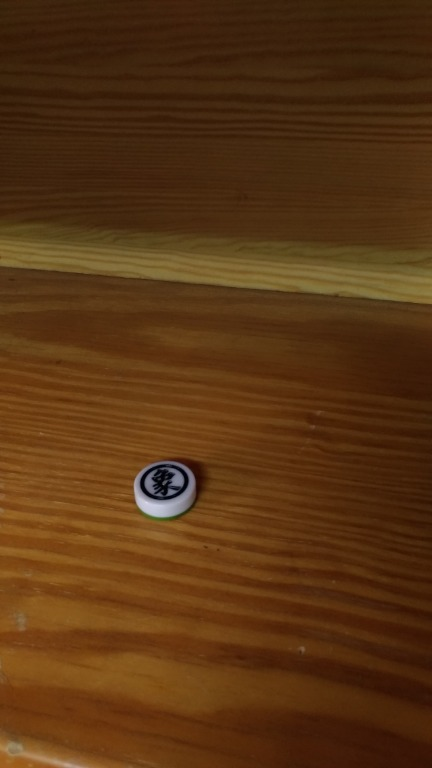b-elephant: (131, 451, 218, 530)
